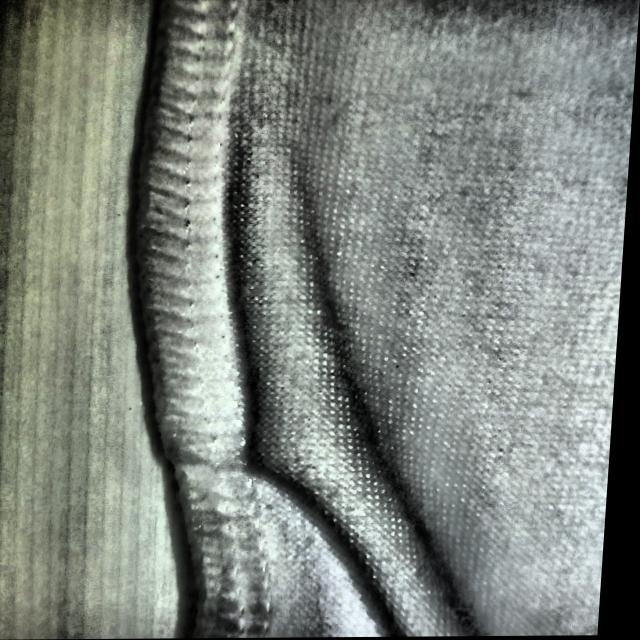seam: (132, 294, 413, 569)
